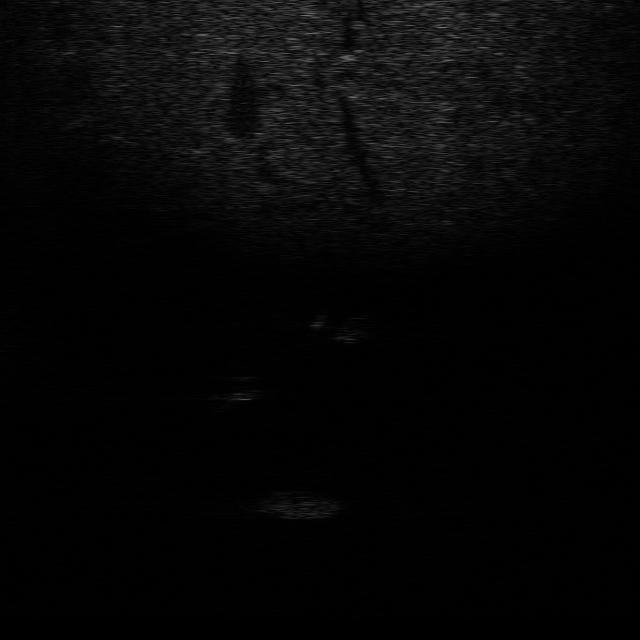ball: (208, 371, 264, 404)
circle cage: (254, 486, 342, 522)
human body: (300, 306, 388, 345)
